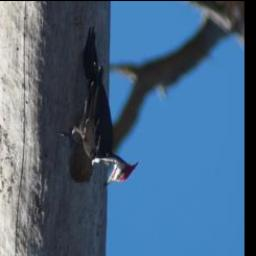Woodpecker: (56, 26, 139, 188)
